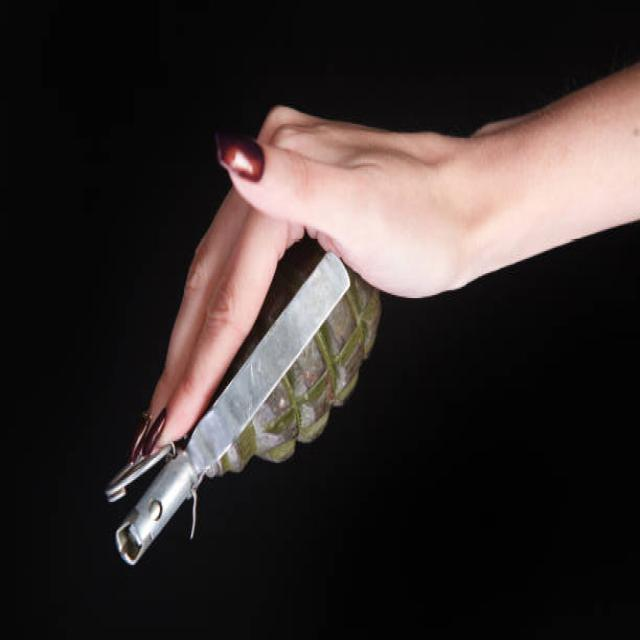grenade: (102, 241, 388, 577)
